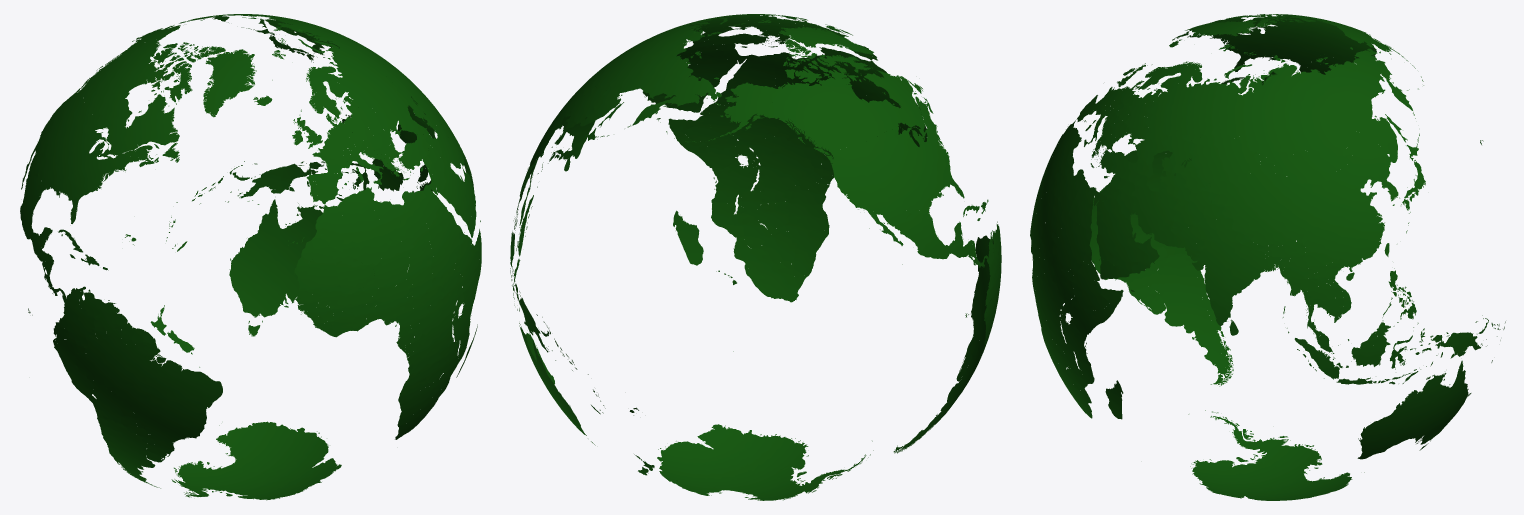
Rendered from world_map.FBX.
The picture shows the model from 3 angles, left to right: view 1: azimuth 30°, elevation 25°; view 2: azimuth 150°, elevation 25°; view 3: azimuth 270°, elevation 25°; orthographic projection.
Parts seen in each view (by area): view 1: BR, CA, AQ, US, AU, RU, DZ, GL, CD, LY, ML, AR (+26 smaller); view 2: US, CA, AQ, RU, CD, MX, ZA, AO, BR, CN, TZ, ET (+19 smaller); view 3: RU, CN, AQ, US, IN, AU, AR, KZ, ID, SA, MN, IR (+22 smaller).
Boxes of the visible parts, x1,y1,x2,y2 form: BR: [75, 327, 222, 460]; CA: [80, 38, 225, 166]; AQ: [171, 421, 341, 500]; US: [36, 25, 180, 223]; AU: [229, 199, 374, 336]; RU: [179, 14, 422, 135]; DZ: [321, 190, 392, 268]; GL: [203, 49, 256, 117]; CD: [407, 293, 457, 363]; LY: [377, 191, 431, 241]; ML: [315, 250, 374, 313]; AR: [105, 419, 160, 488]; US: [666, 82, 964, 284]; CA: [770, 39, 933, 154]; AQ: [657, 424, 873, 500]; RU: [578, 14, 779, 139]; CD: [750, 136, 829, 210]; MX: [869, 206, 962, 264]; ZA: [733, 247, 805, 351]; AO: [780, 178, 830, 231]; BR: [959, 235, 1001, 372]; CN: [527, 79, 610, 169]; TZ: [712, 160, 757, 203]; ET: [681, 103, 739, 144]; RU: [1128, 47, 1419, 169]; CN: [1219, 131, 1389, 280]; AQ: [1188, 410, 1364, 500]; US: [1206, 23, 1483, 144]; IN: [1190, 211, 1299, 333]; AU: [1357, 360, 1468, 459]; AR: [1142, 252, 1227, 384]; KZ: [1161, 130, 1264, 186]; ID: [1294, 323, 1461, 384]; SA: [1096, 195, 1144, 265]; MN: [1266, 146, 1355, 185]; IR: [1131, 172, 1178, 245].
Bounding box in the file's own units: 39.29 × 39.3 × 38.83.
